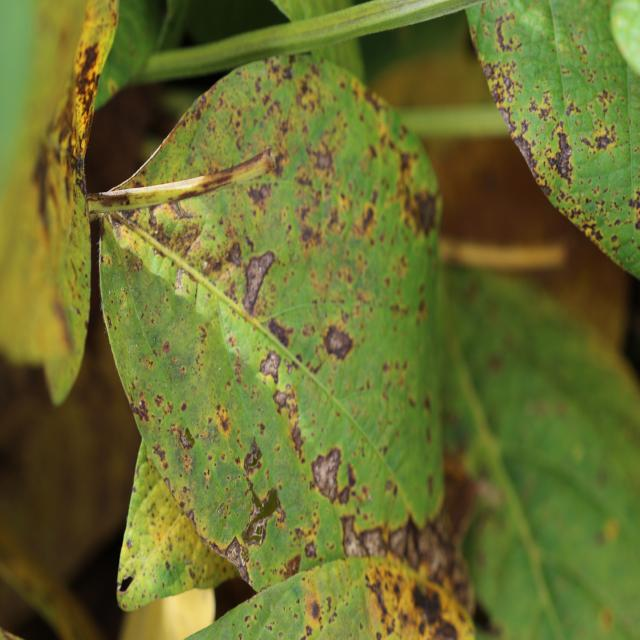Bacterial_Blight: (214, 237, 277, 315), (310, 443, 360, 508), (143, 208, 200, 257), (270, 380, 307, 451), (314, 313, 358, 365), (344, 515, 387, 558), (223, 535, 253, 585), (413, 583, 445, 629), (209, 261, 242, 302), (293, 69, 321, 115), (412, 190, 438, 236), (366, 575, 391, 622), (167, 422, 195, 457), (258, 349, 281, 383), (247, 181, 274, 208), (243, 437, 263, 472), (167, 197, 195, 221), (174, 268, 194, 301), (151, 442, 169, 471), (281, 554, 301, 580), (133, 397, 151, 424), (315, 147, 332, 171), (361, 204, 375, 232), (227, 241, 242, 267), (273, 390, 289, 409), (300, 223, 314, 244), (309, 599, 321, 621), (184, 507, 196, 527), (304, 541, 317, 559), (148, 205, 157, 230), (139, 357, 154, 370), (384, 478, 395, 495), (219, 416, 229, 433), (153, 394, 164, 409), (162, 340, 171, 354), (180, 401, 187, 412), (244, 615, 251, 624), (107, 317, 112, 328)
Soybean: (101, 56, 443, 591)
